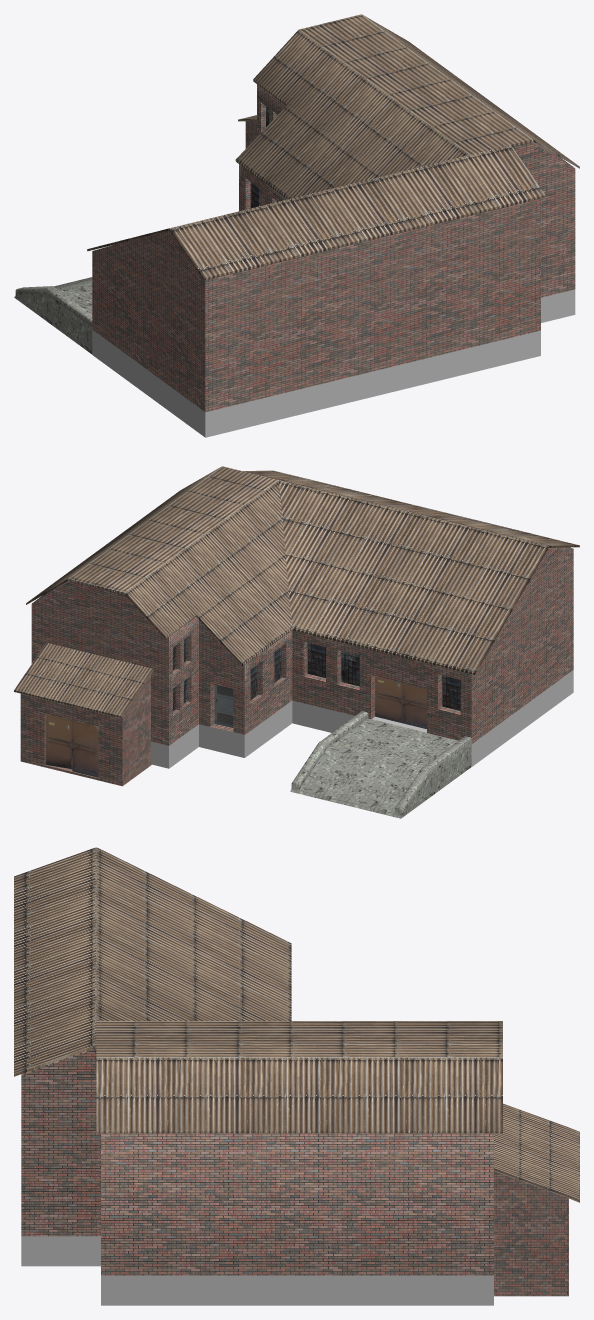
The model's file is house2_lod2.fbx.
3 views of the same model, one above another, from view 1: azimuth 30°, elevation 25°; view 2: azimuth 150°, elevation 25°; view 3: azimuth 270°, elevation 25° (orthographic). The views are drawn at different scales.
Parts seen in each view (by area): view 1: Mesh Object; view 2: Mesh Object; view 3: Mesh Object.
Boxes of the visible parts, x1,y1,x2,y2 form: Mesh Object: [14, 14, 579, 437]; Mesh Object: [14, 466, 579, 818]; Mesh Object: [14, 847, 579, 1305].
Size of the model in its own units: 19.17 by 8.43 by 19.28.
